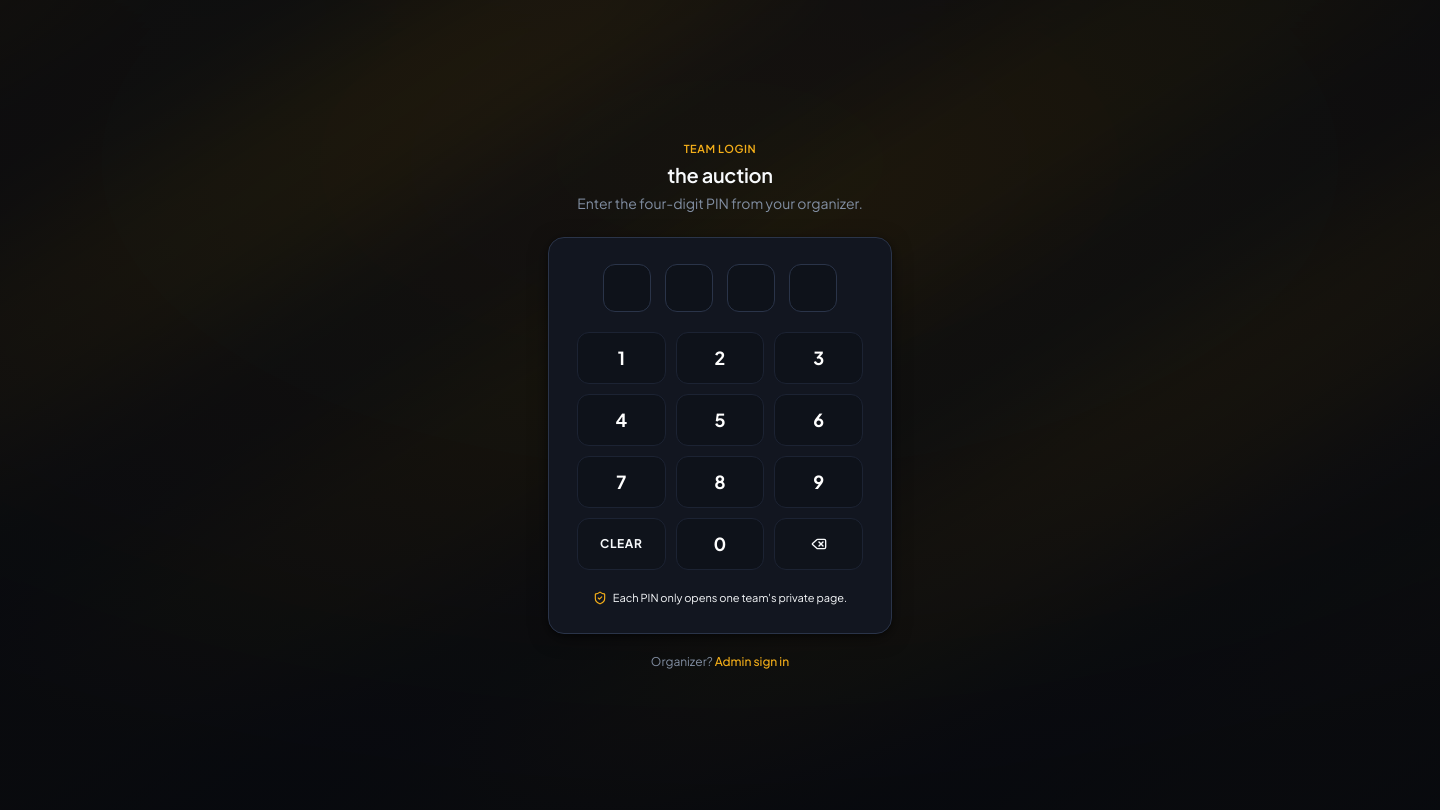
Test: TeamLoginPage › shows a generic error for a wrong PIN and clears the keypad
Step 1. Click the button "1" → (621, 358), box [577, 332, 666, 384]
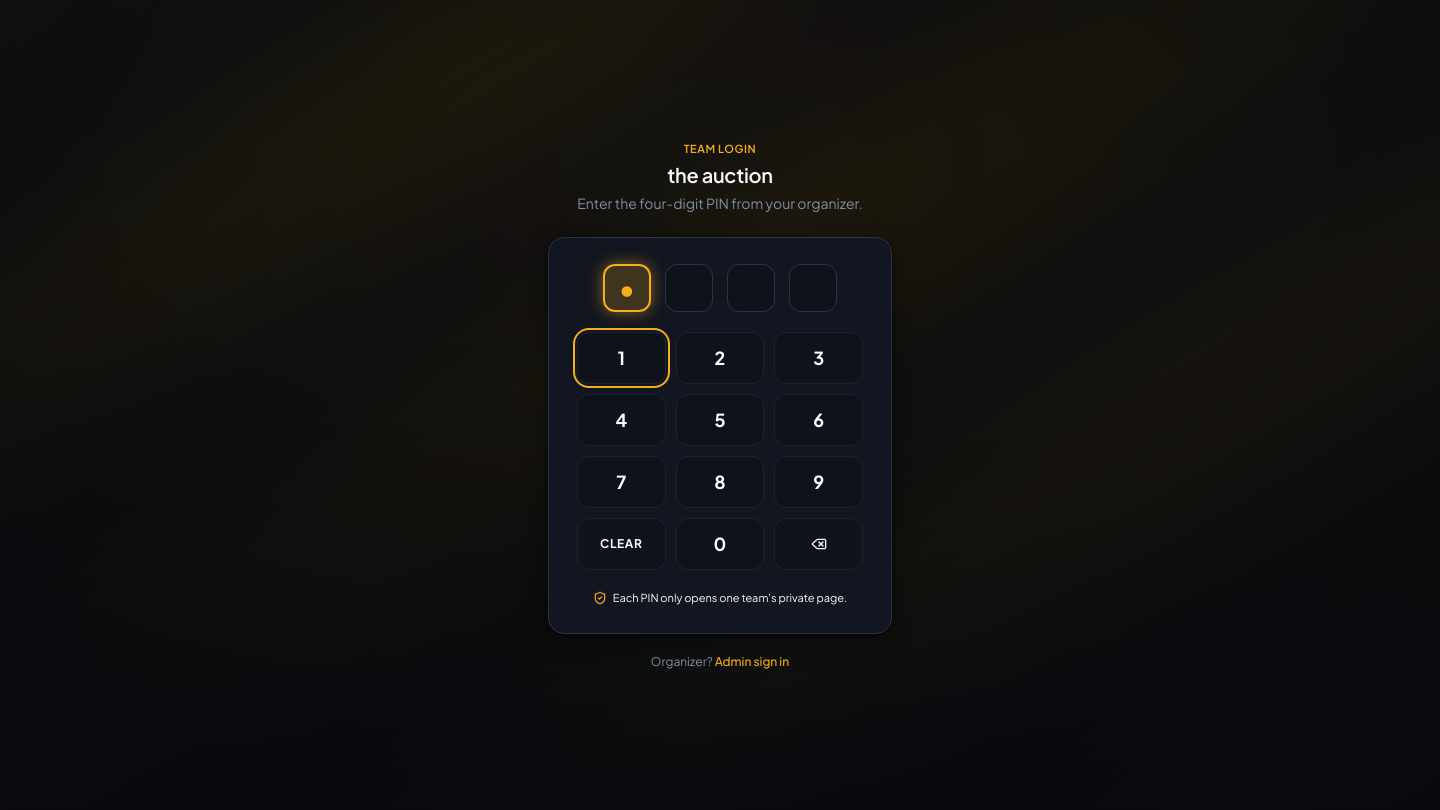
Step 2. Click the button "2" → (720, 358), box [676, 332, 764, 384]
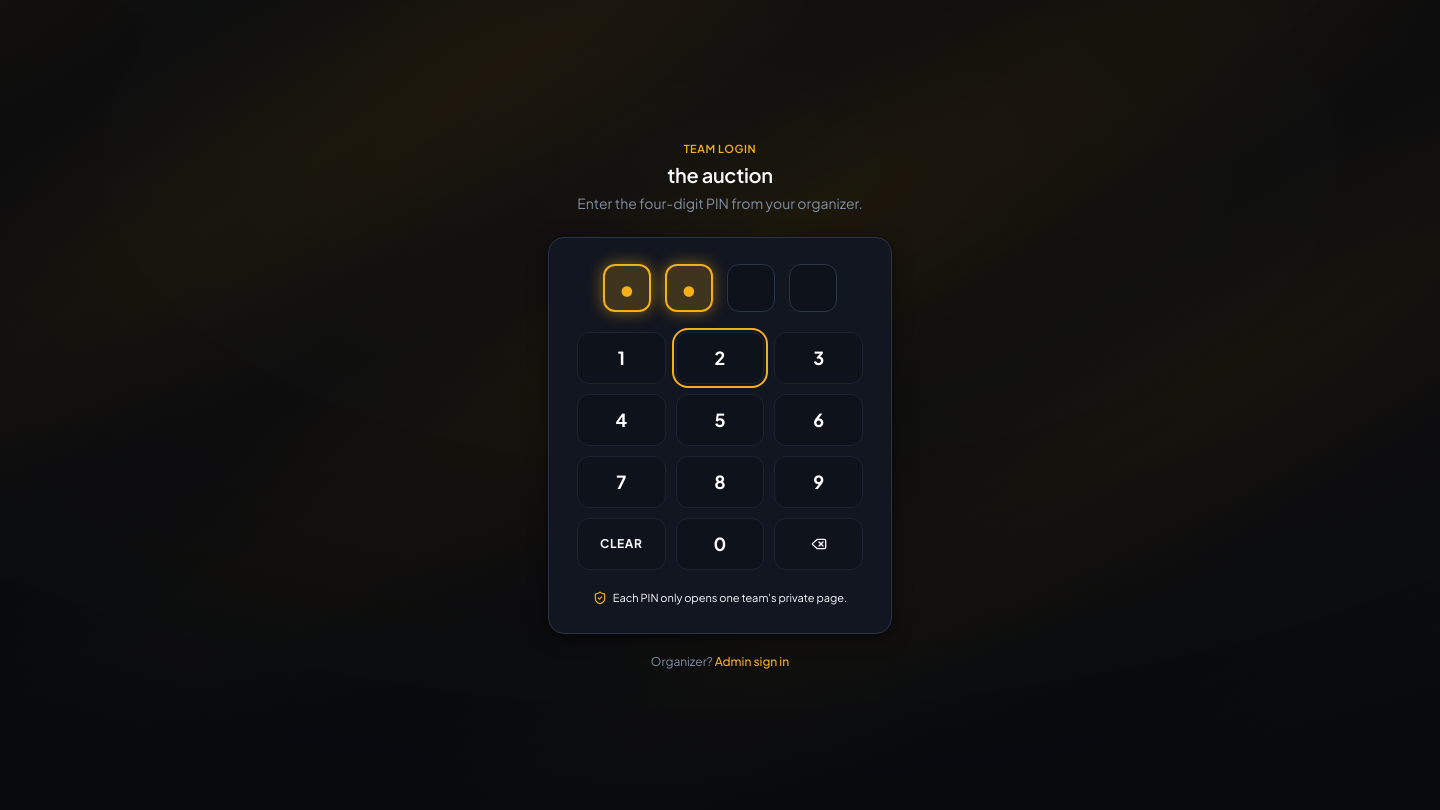
Step 3. Click the button "3" → (819, 358), box [774, 332, 863, 384]
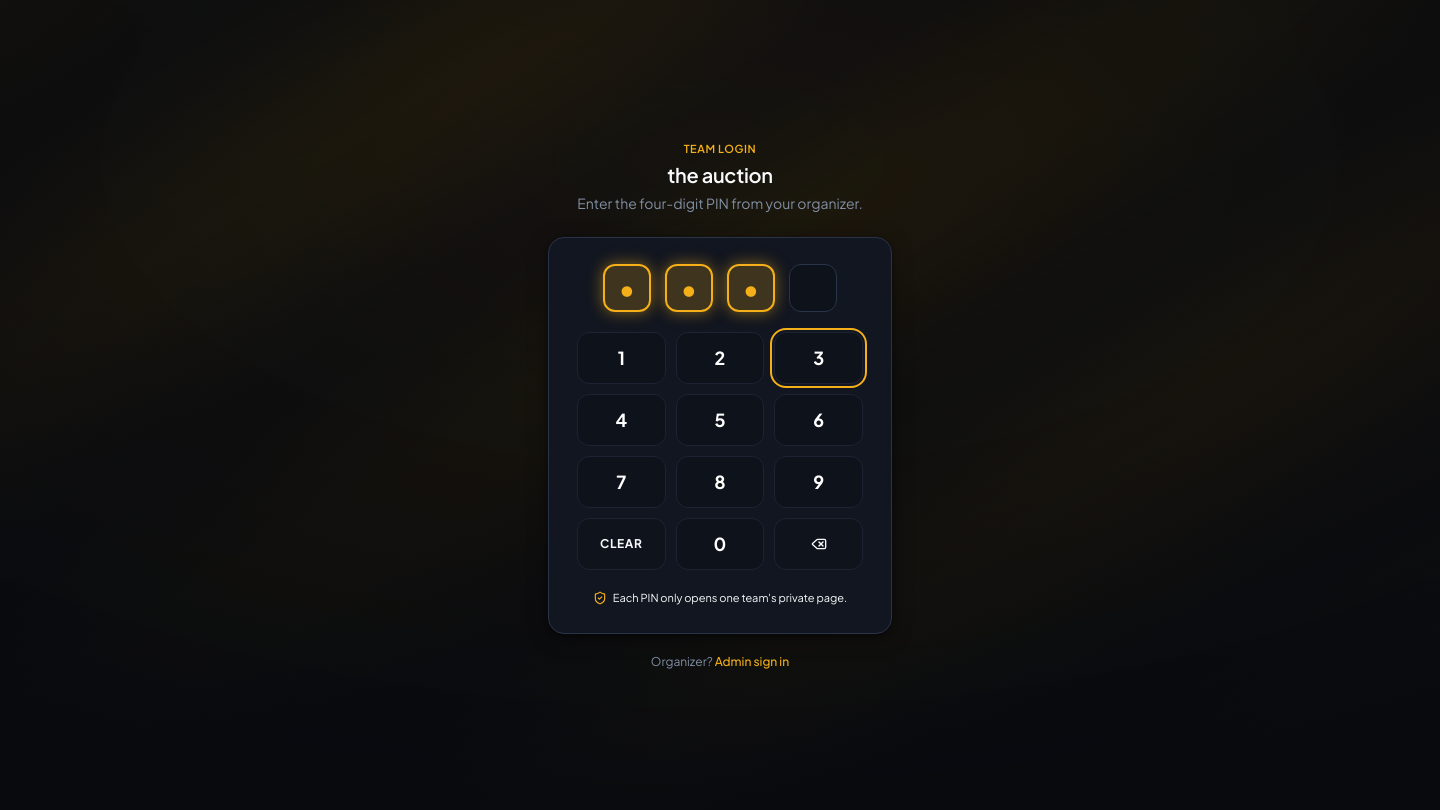
Step 4. Click the button "4" → (621, 420), box [577, 394, 666, 446]
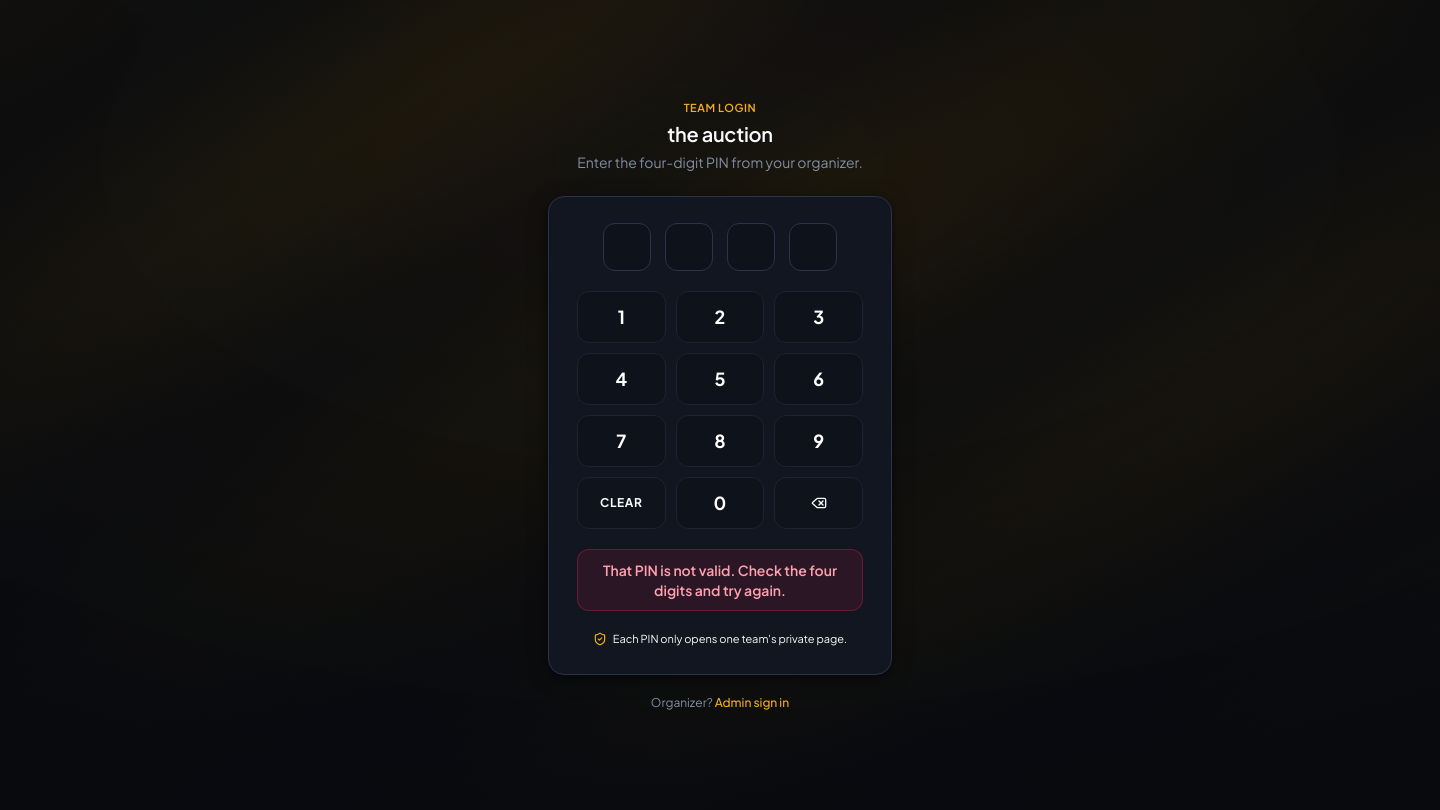
Check: the message shows "not valid", box [603, 561, 837, 599]
